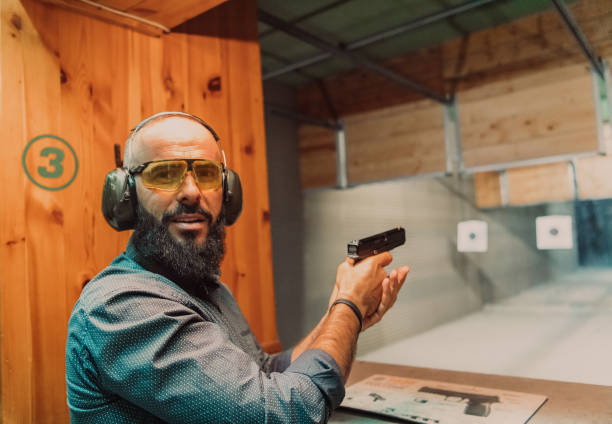gun: (347, 226, 406, 265)
